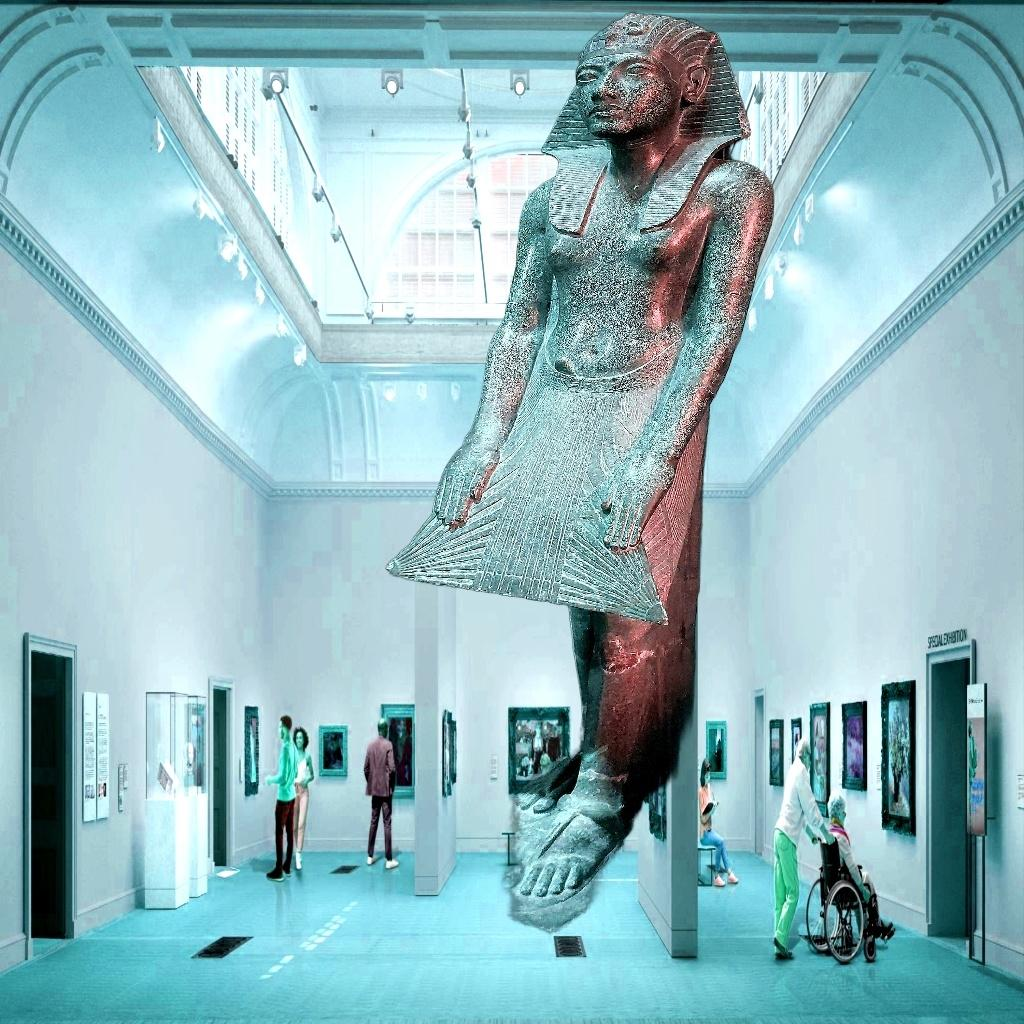Granite Statue of Tutankhamun: (356, 10, 778, 972)
